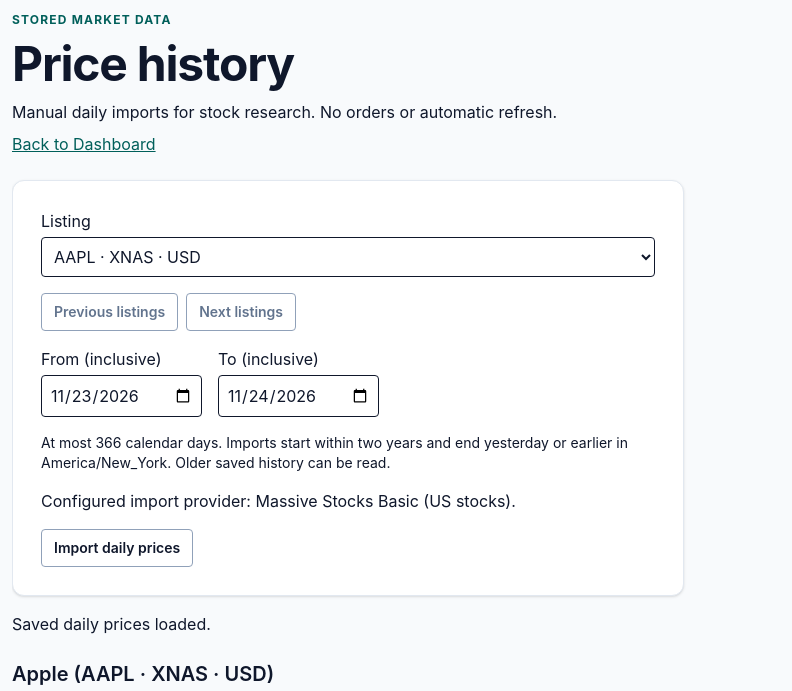
Test: preserves saved rows on HTTP 503 and offers manual retry
Click the button "Import daily prices" at coordinates (117, 548), box top-left (41, 529), bottom-right (193, 567)
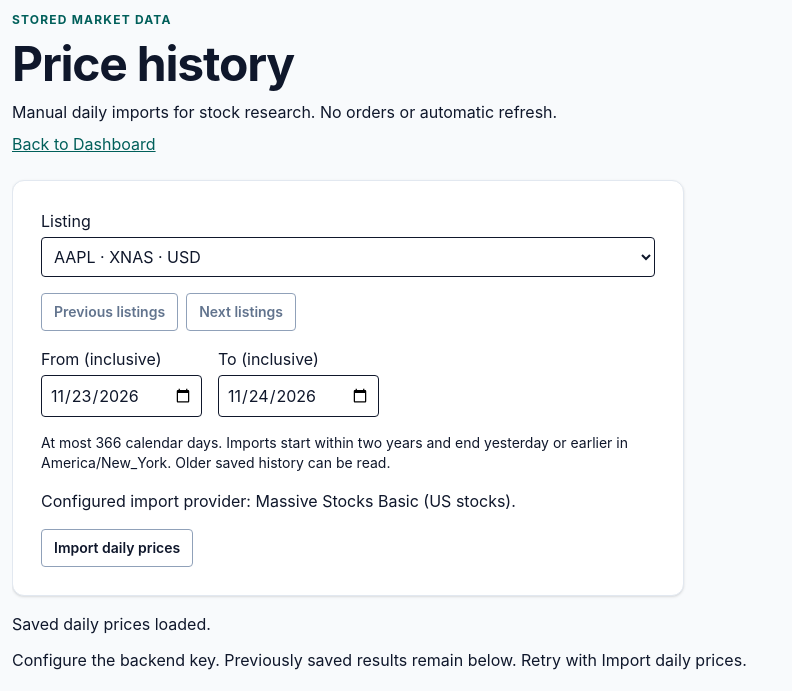
Expected: the message that starts with "Configure the backend key." is shown, top-left (12, 650), bottom-right (220, 670)
Click the button "Import daily prices" at coordinates (117, 548), box top-left (41, 529), bottom-right (193, 567)
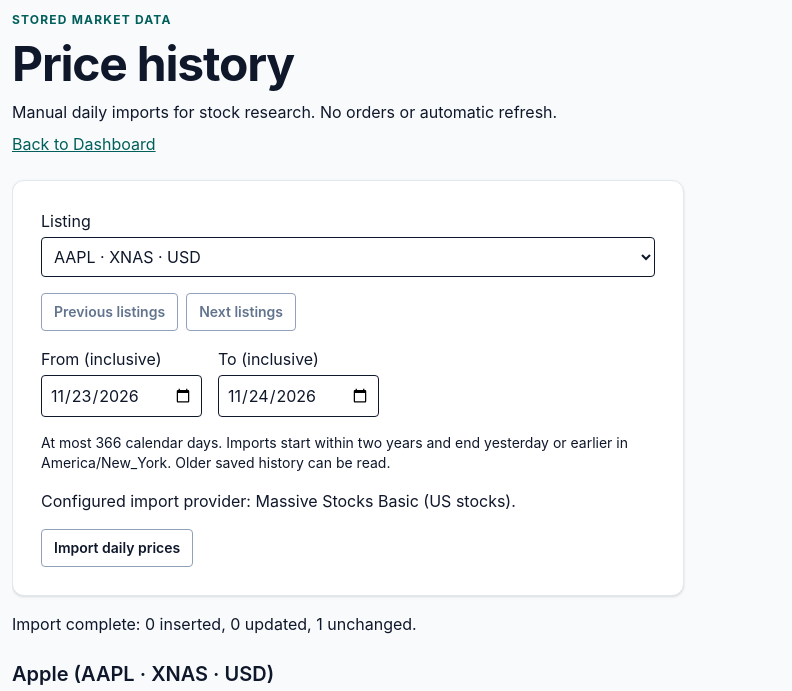
Expected: the message shows "0 inserted, 0 updated, 1 unchanged", top-left (12, 614), bottom-right (417, 634)
